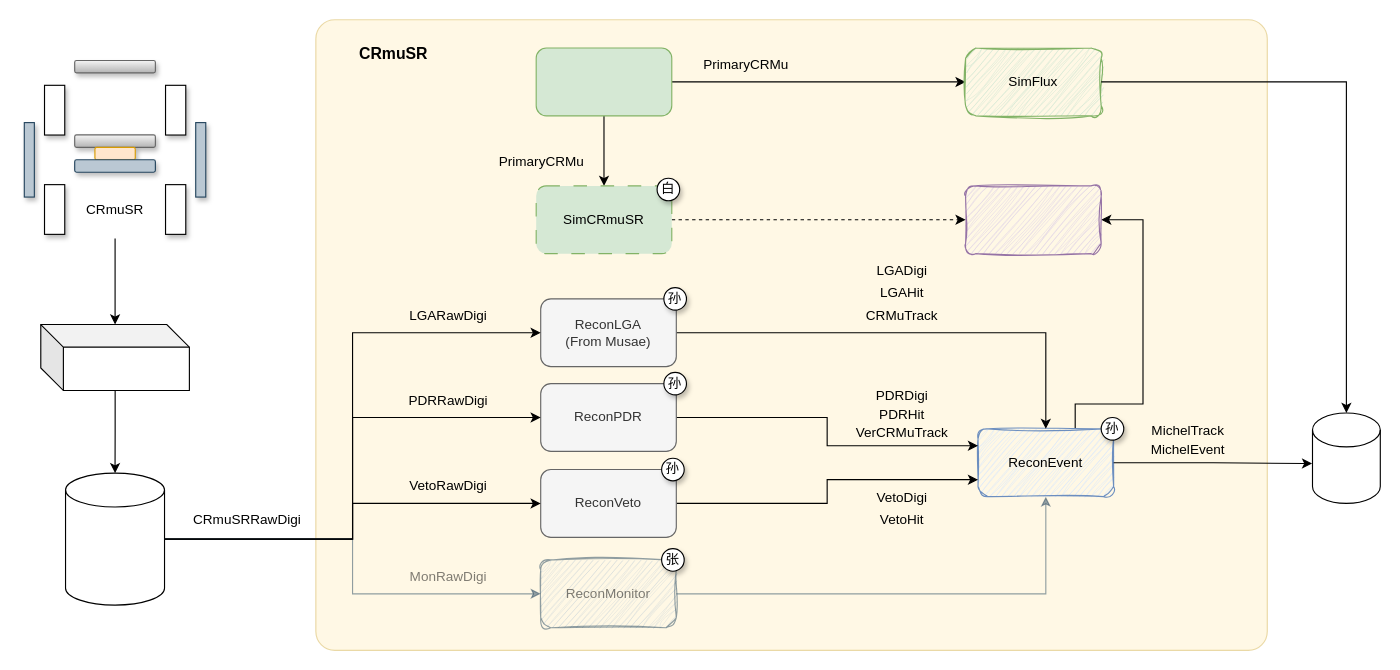
Image size: 1400x670. Some labels were removed from this diagram. Here are the shapes that lost their labels. From the top down, the centre of each, then its label:
At (x=603, y=81): "GenCRMu".
At (x=1032, y=219): "VisCRmuSR".
At (x=114, y=357): "DAQ".
At (x=1345, y=457): "Event data".
At (x=114, y=538): "Raw data".
